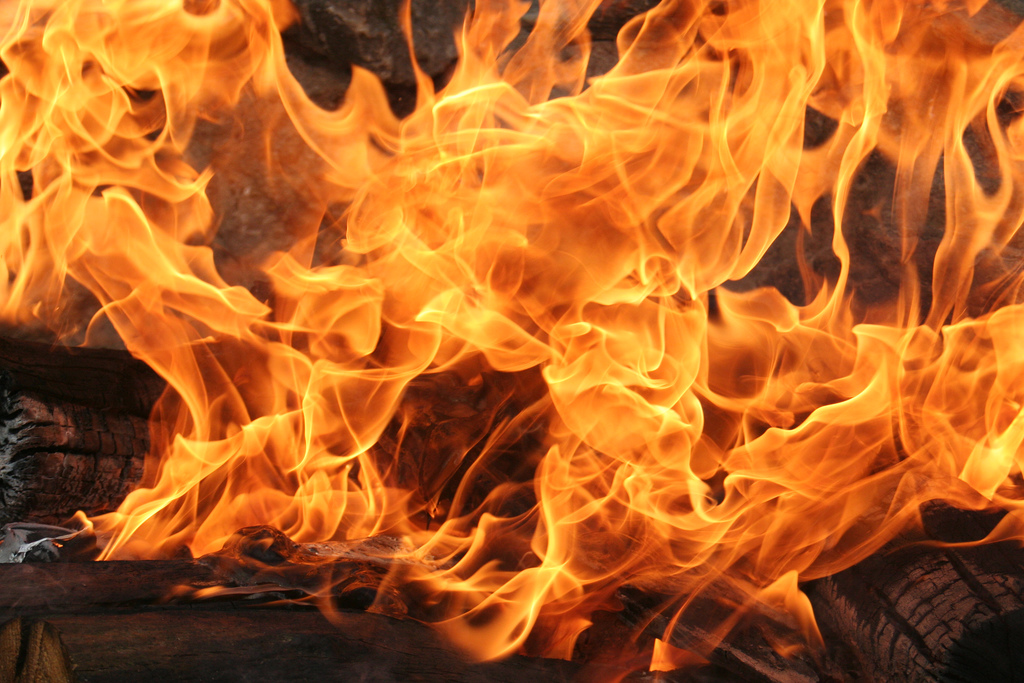fire: (8, 9, 1003, 663)
